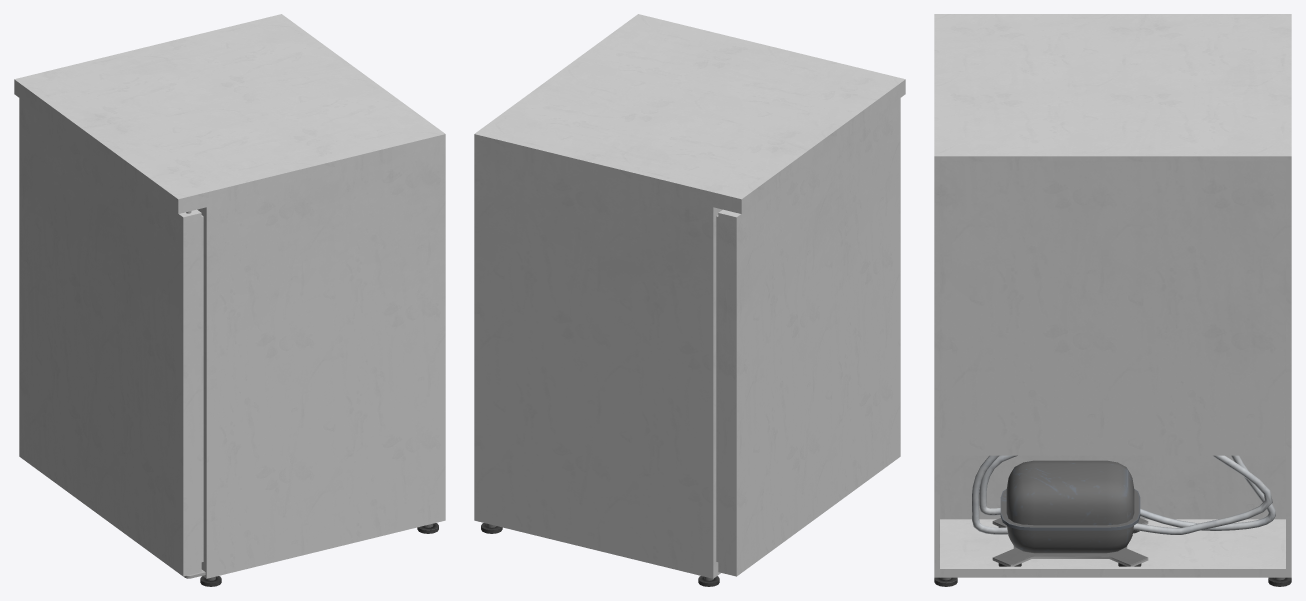
File: SM_Freezer_01.fbx
3 views of the same model, side by side, from view 1: azimuth 30°, elevation 25°; view 2: azimuth 150°, elevation 25°; view 3: azimuth 270°, elevation 25° (orthographic). The views are drawn at different scales.
Parts seen in each view (by area): view 1: SM_Freezer_01_LOD0; view 2: SM_Freezer_01_LOD0; view 3: SM_Freezer_01_LOD0.
Boxes of the visible parts, bbox=[...] form: SM_Freezer_01_LOD0: bbox=[14, 14, 445, 586]; SM_Freezer_01_LOD0: bbox=[474, 14, 905, 586]; SM_Freezer_01_LOD0: bbox=[934, 14, 1291, 586].
Bounding box in the file's own units: 56.5 × 60 × 80.
